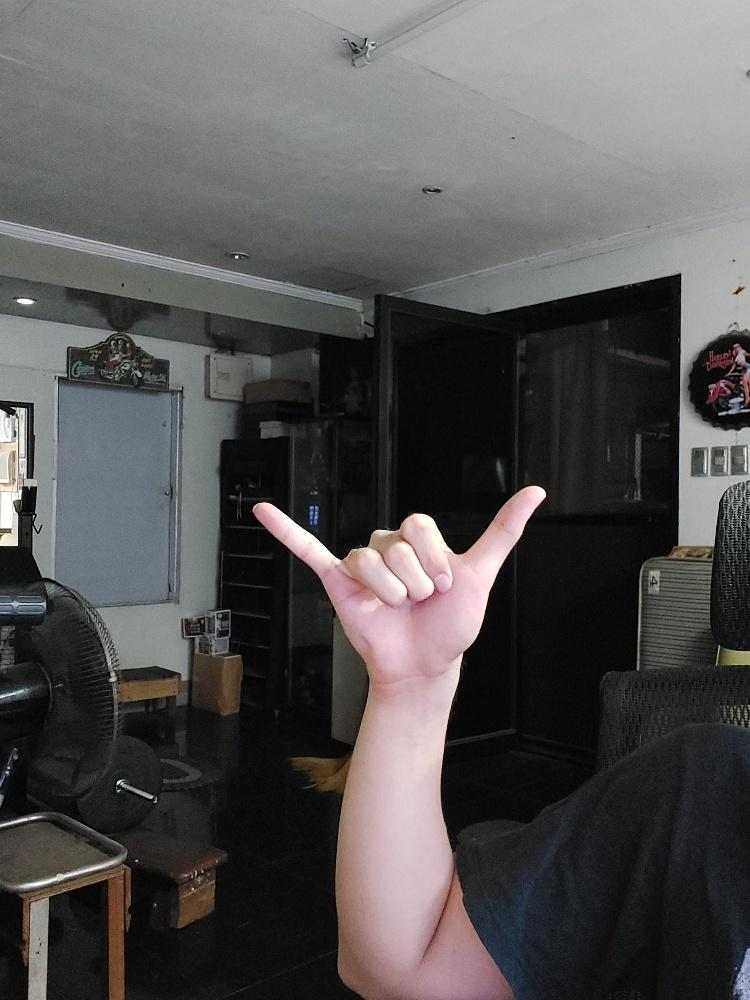y: (251, 484, 545, 682)
